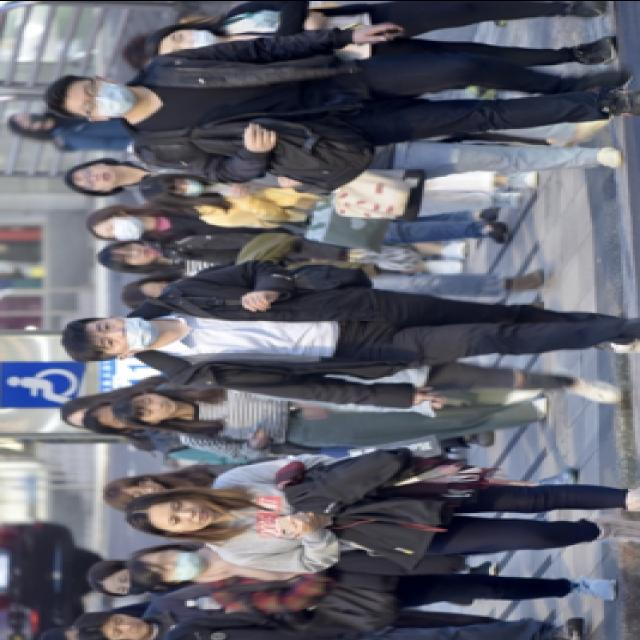mask_weared_incorrect: (94, 314, 158, 356), (148, 548, 208, 582), (166, 27, 218, 56)
with_mask: (76, 82, 134, 116), (103, 213, 149, 243), (110, 568, 158, 595), (168, 174, 206, 197)
without_mask: (158, 498, 216, 532), (134, 393, 180, 422), (77, 160, 120, 190), (108, 613, 148, 640), (128, 477, 168, 499), (120, 243, 158, 266)
